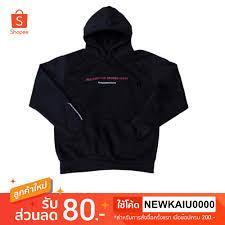sweater: (27, 6, 196, 179)
